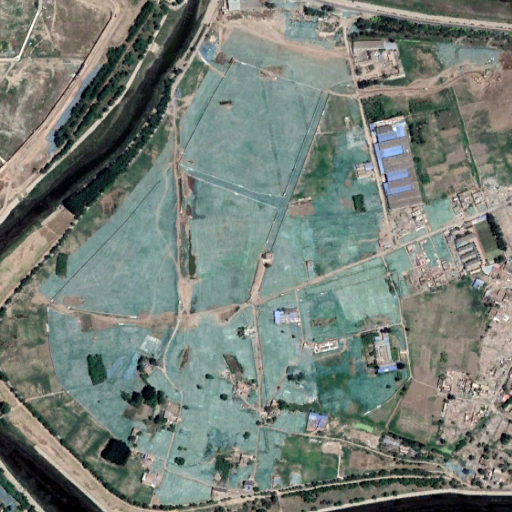cw: (37, 5, 499, 500)
